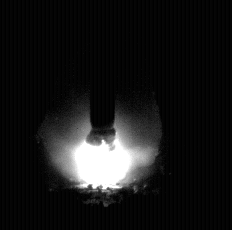arame: (90, 0, 117, 149)
poca: (45, 0, 159, 230)
